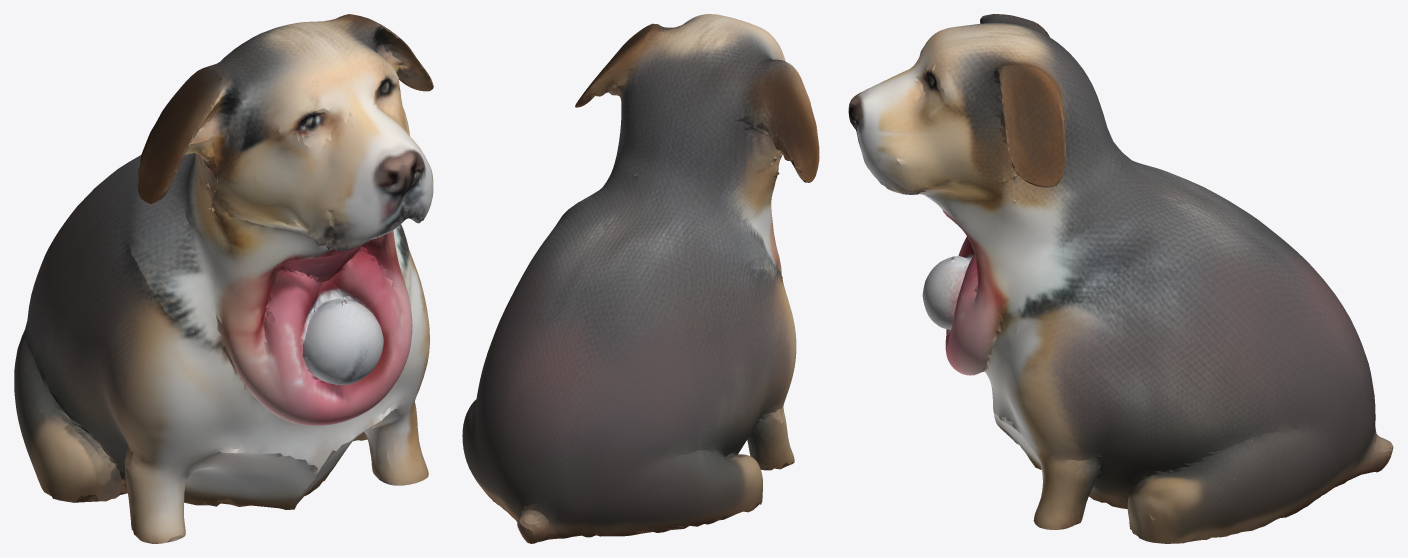
The model's file is stomach_foreign_body.glb.
3 renders of one model, left to right at view 1: azimuth 30°, elevation 25°; view 2: azimuth 150°, elevation 25°; view 3: azimuth 270°, elevation 25°, orthographic. The views are drawn at different scales.
Visible parts, largest first — view 1: model; view 2: model; view 3: model.
Part boxes in pixels (x1,y1,x2,y2): model: (14, 14, 433, 543); model: (462, 14, 819, 543); model: (848, 14, 1393, 543).
Bounding box in the file's own units: 1.23 × 1.67 × 1.9.
Materials: 1 (1 with a texture image).
